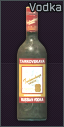Bottle of Tarkovskaya vodka: (0, 0, 64, 127)
